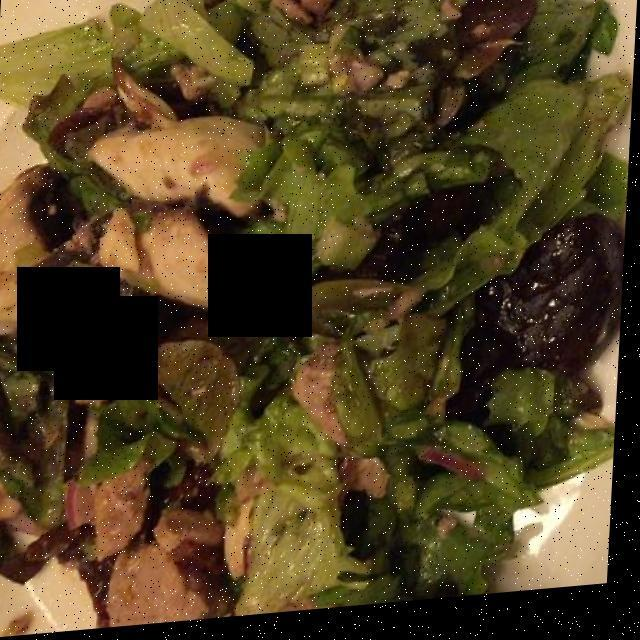black-olives: (498, 203, 617, 407)
chicken: (0, 99, 274, 373)
salad: (0, 0, 617, 619)
